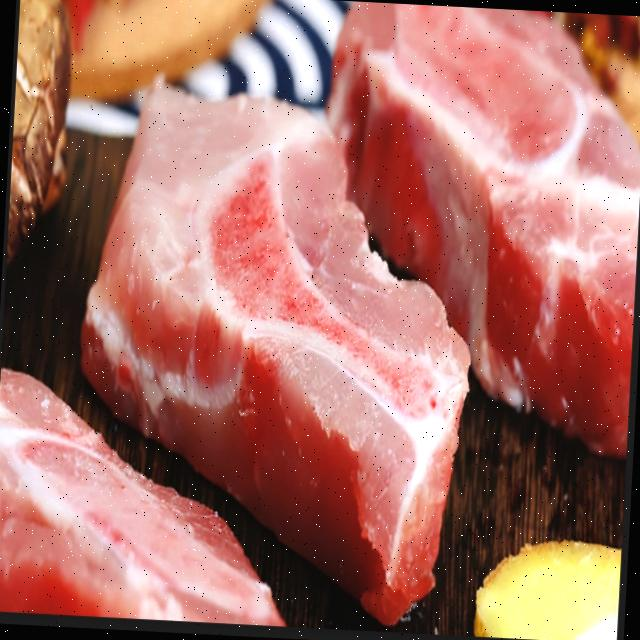meat: (79, 90, 474, 621), (327, 3, 640, 456), (0, 372, 288, 622)
